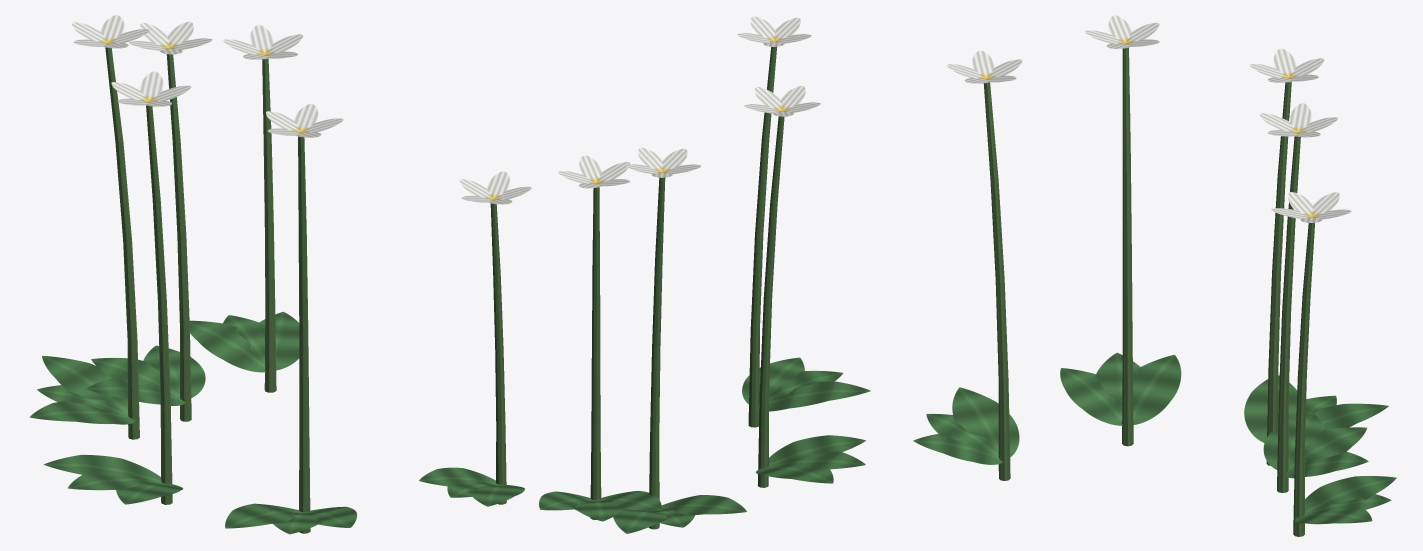
File: forest_anemone_v01.glb
3 renders of one model, left to right at view 1: azimuth 30°, elevation 25°; view 2: azimuth 150°, elevation 25°; view 3: azimuth 270°, elevation 25°, orthographic. The views are drawn at different scales.
Parts seen in each view (by area): view 1: forest_anemone_v01; view 2: forest_anemone_v01; view 3: forest_anemone_v01.
Boxes of the visible parts, x1,y1,x2,y2 form: forest_anemone_v01: [29, 15, 356, 534]; forest_anemone_v01: [419, 16, 870, 533]; forest_anemone_v01: [913, 15, 1396, 536].
Bounding box in the file's own units: 0.2034 × 0.2176 × 0.2441.
3 materials, 3 textured.
